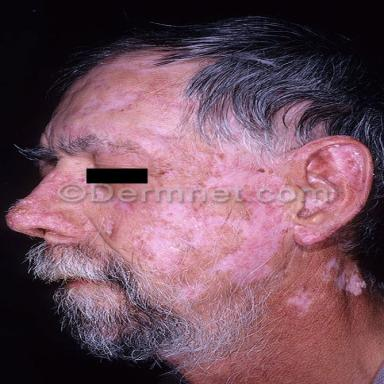Lupus-Erythematosus-Chronicus-Discoides: (132, 200, 363, 287), (7, 170, 83, 235), (201, 145, 286, 188), (322, 257, 368, 296), (74, 92, 143, 116), (101, 199, 136, 239), (287, 285, 314, 315)
